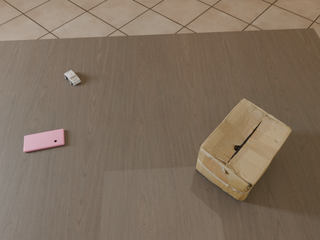box: (196, 99, 292, 201)
phone: (24, 129, 64, 152)
toy_car: (65, 70, 81, 85)
